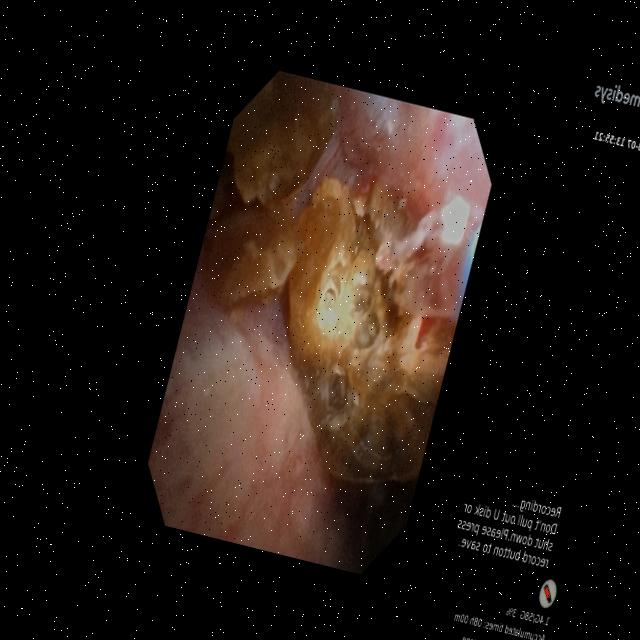stone-new: (288, 178, 455, 483), (228, 109, 316, 204), (225, 238, 295, 302)
